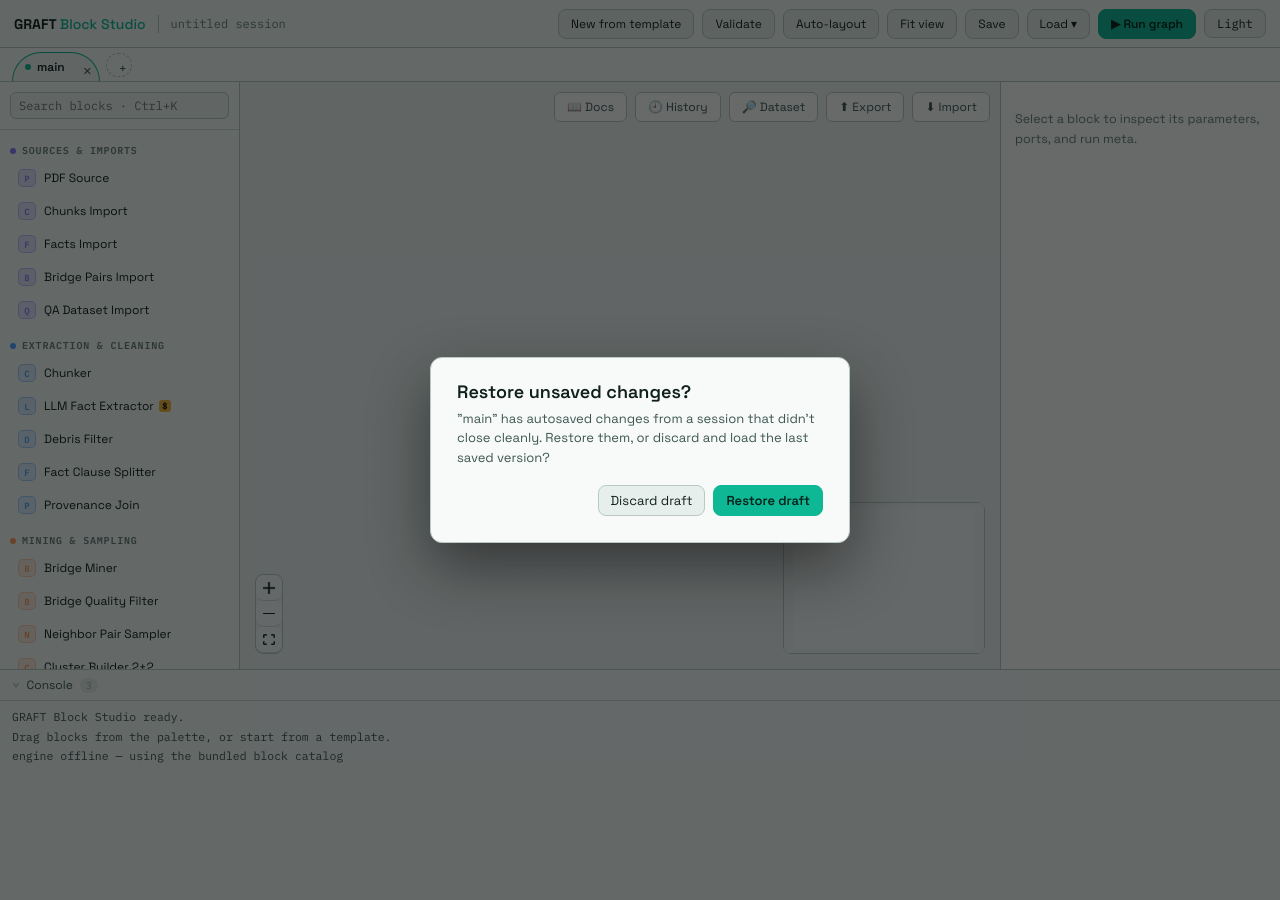
StudioShell — B-M1 autosave + crash recovery › Discard draft loads the last saved version and removes the draft file
Click the button "Discard draft" at (651, 501), box [598,485,705,516]
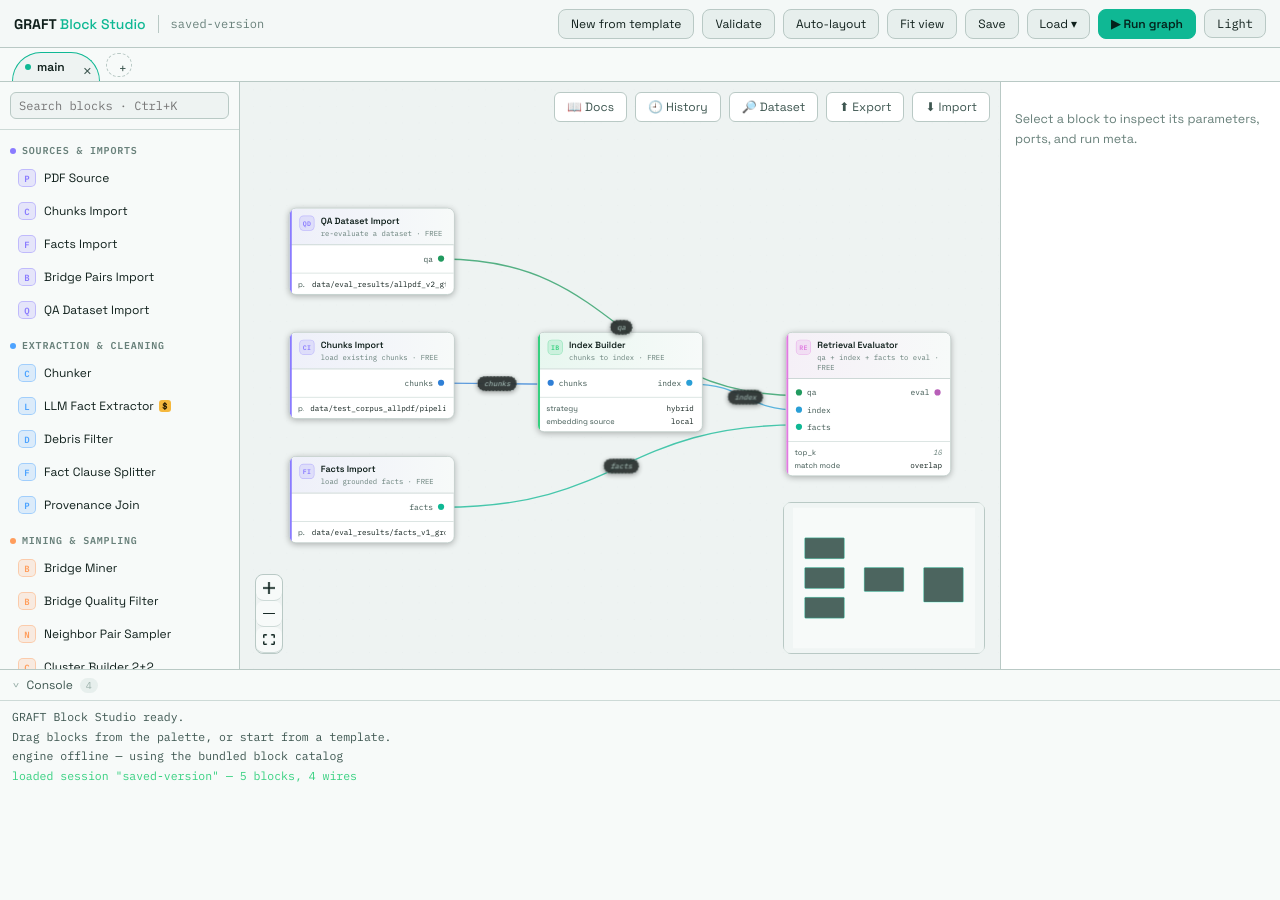
Now the text "saved-version" is shown, box [171,16,264,31]
Now the number of elements with class "block-node" is 5, box [289,208,454,295]; [289,332,454,419]; [289,456,454,543]; [537,332,703,432]; [786,332,951,476]
